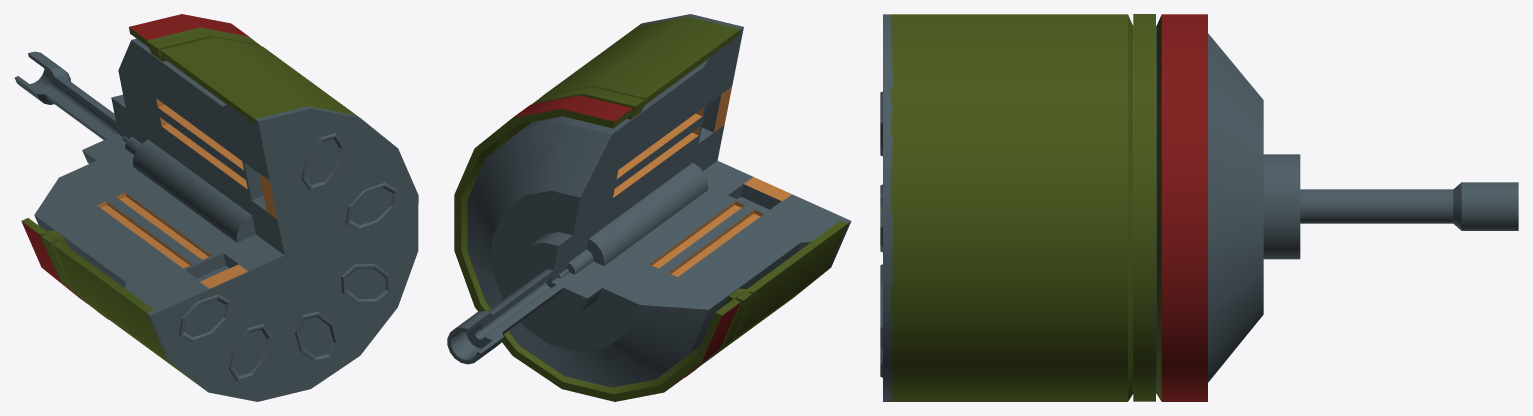
File: ЗУР-ДУ-СД_Р.fbx
The picture shows the model from 3 angles, left to right: view 1: azimuth 30°, elevation 25°; view 2: azimuth 150°, elevation 25°; view 3: azimuth 270°, elevation 25°; orthographic projection. The views are drawn at different scales.
Parts seen in each view (by area): view 1: Circle.016; view 2: Circle.016; view 3: Circle.016.
Boxes of the visible parts, <box> form: Circle.016: <box>14,14,418,401</box>; Circle.016: <box>447,14,851,401</box>; Circle.016: <box>880,14,1518,401</box>.
Bounding box in the file's own units: 71.18 × 71.06 × 117.
1 material, 1 textured.
